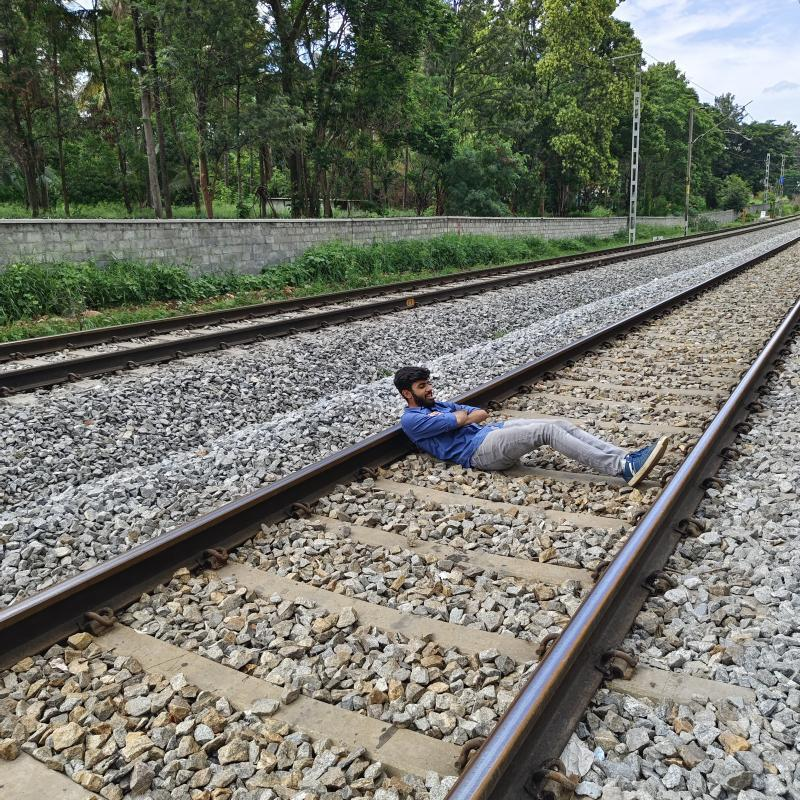sleeping: (384, 362, 688, 491)
